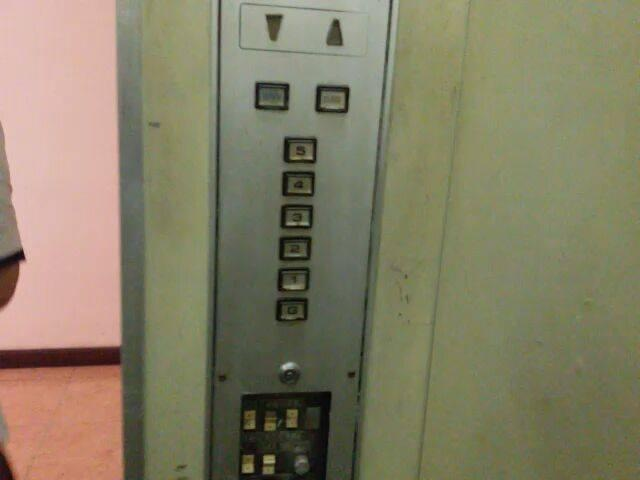1: (276, 265, 311, 292)
2: (277, 234, 312, 261)
3: (278, 202, 314, 229)
4: (280, 169, 315, 196)
5: (283, 136, 318, 164)
G: (274, 295, 308, 323)
blur: (240, 402, 258, 432)
switch: (283, 403, 299, 432), (263, 403, 278, 433), (304, 403, 319, 431), (240, 450, 256, 474), (261, 450, 276, 475)
text_blur: (253, 79, 290, 111), (315, 84, 351, 115)
